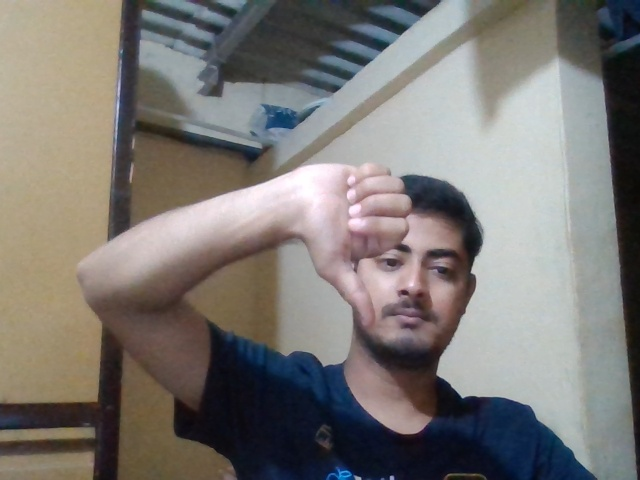ThumbsDown: (299, 163, 411, 328)
